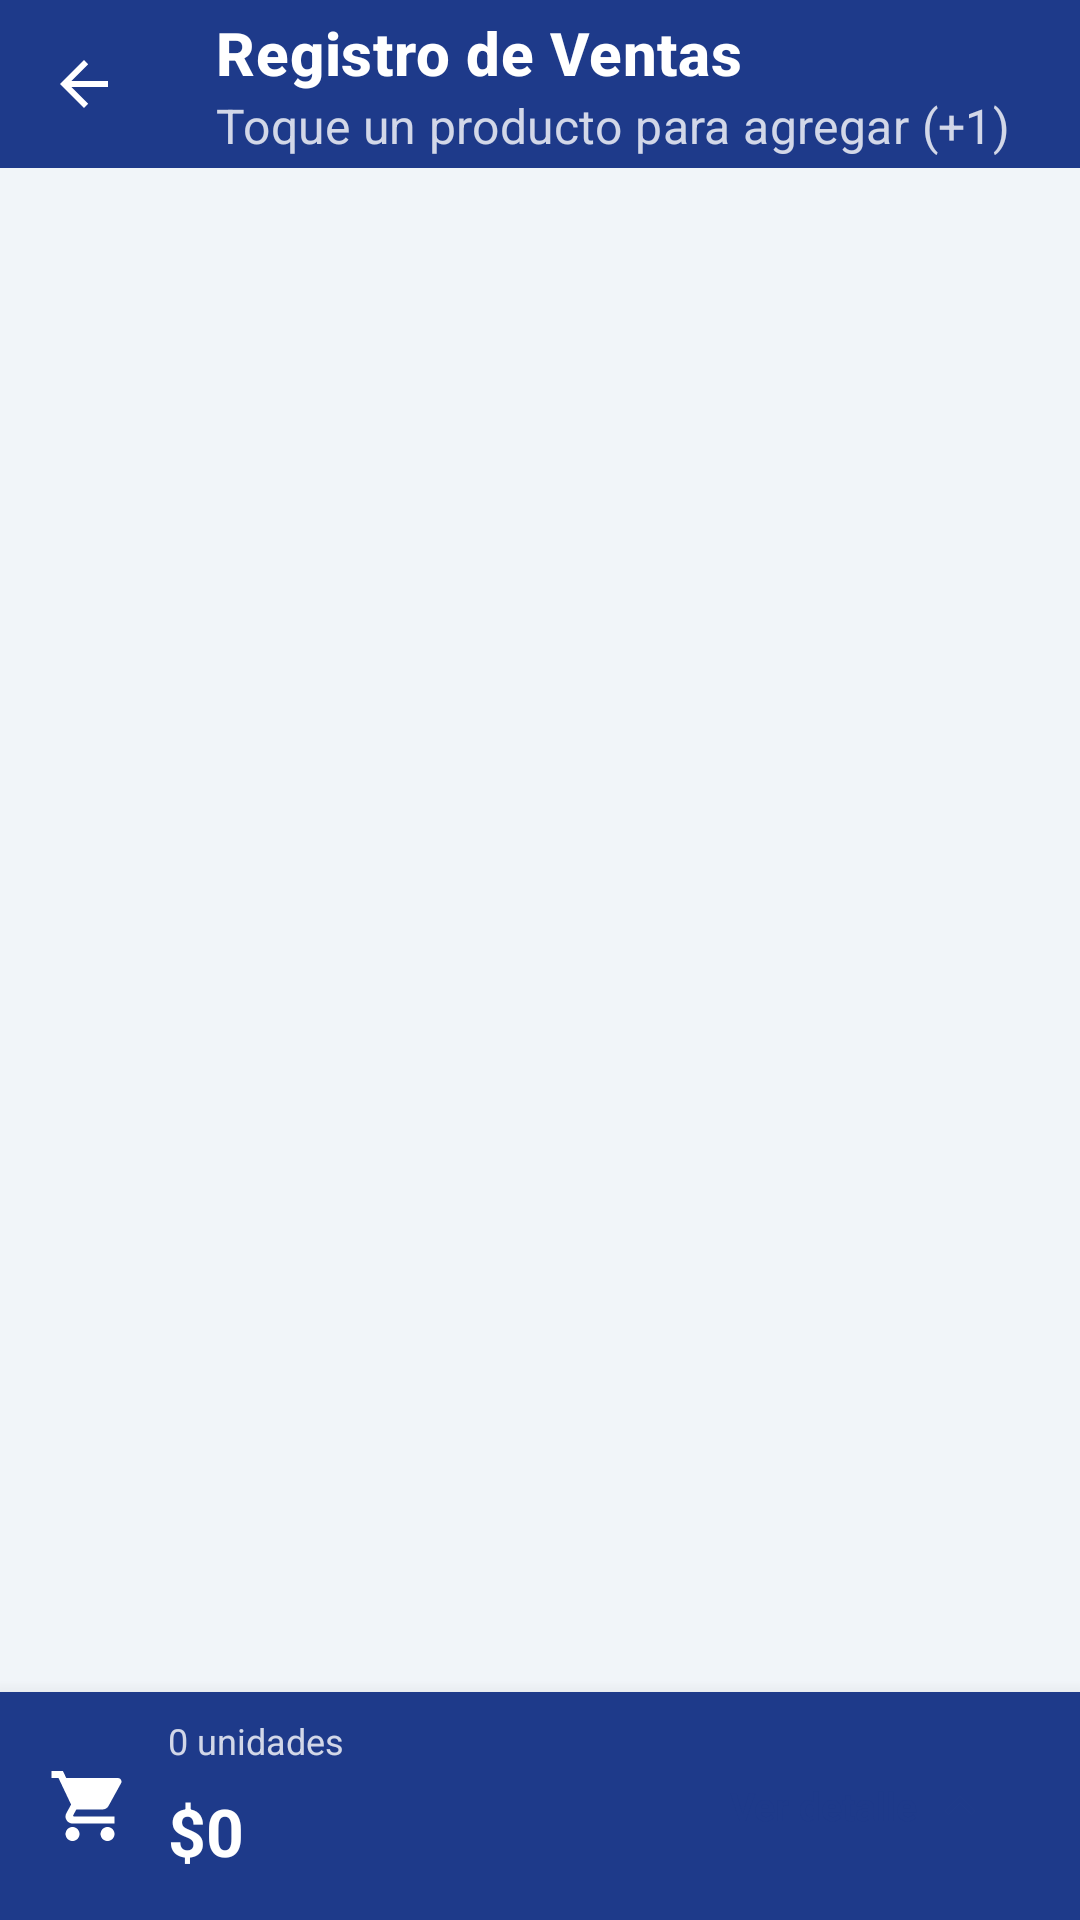

Screen size 1080×1920. Icon name, then its box in pixels as bbox=[x1, y1, x2, y2]:
Carrito de venta: bbox=[51, 1771, 122, 1841]
